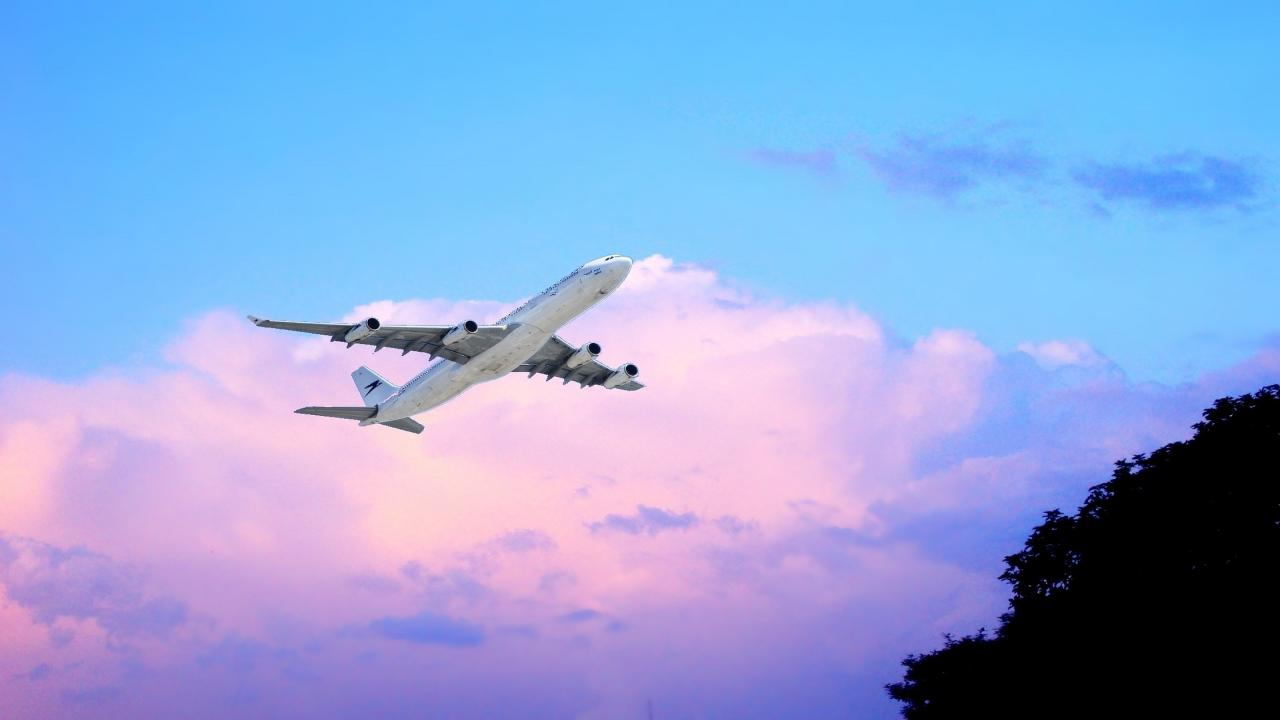Airplane: (236, 244, 658, 444)
